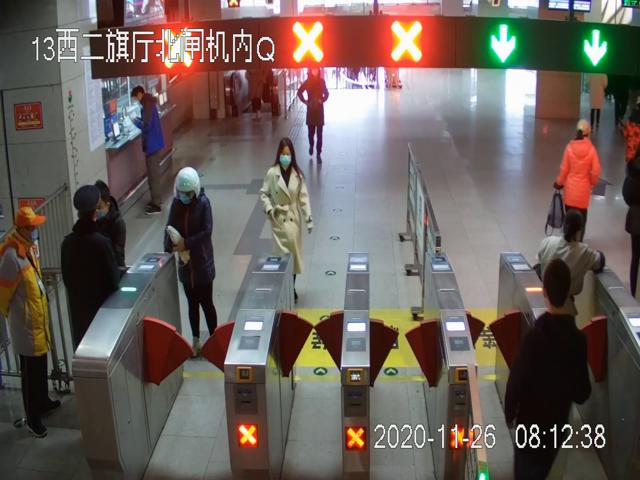person: (0, 205, 60, 436), (163, 168, 218, 352), (261, 136, 312, 302), (127, 84, 165, 215), (297, 67, 327, 160)
